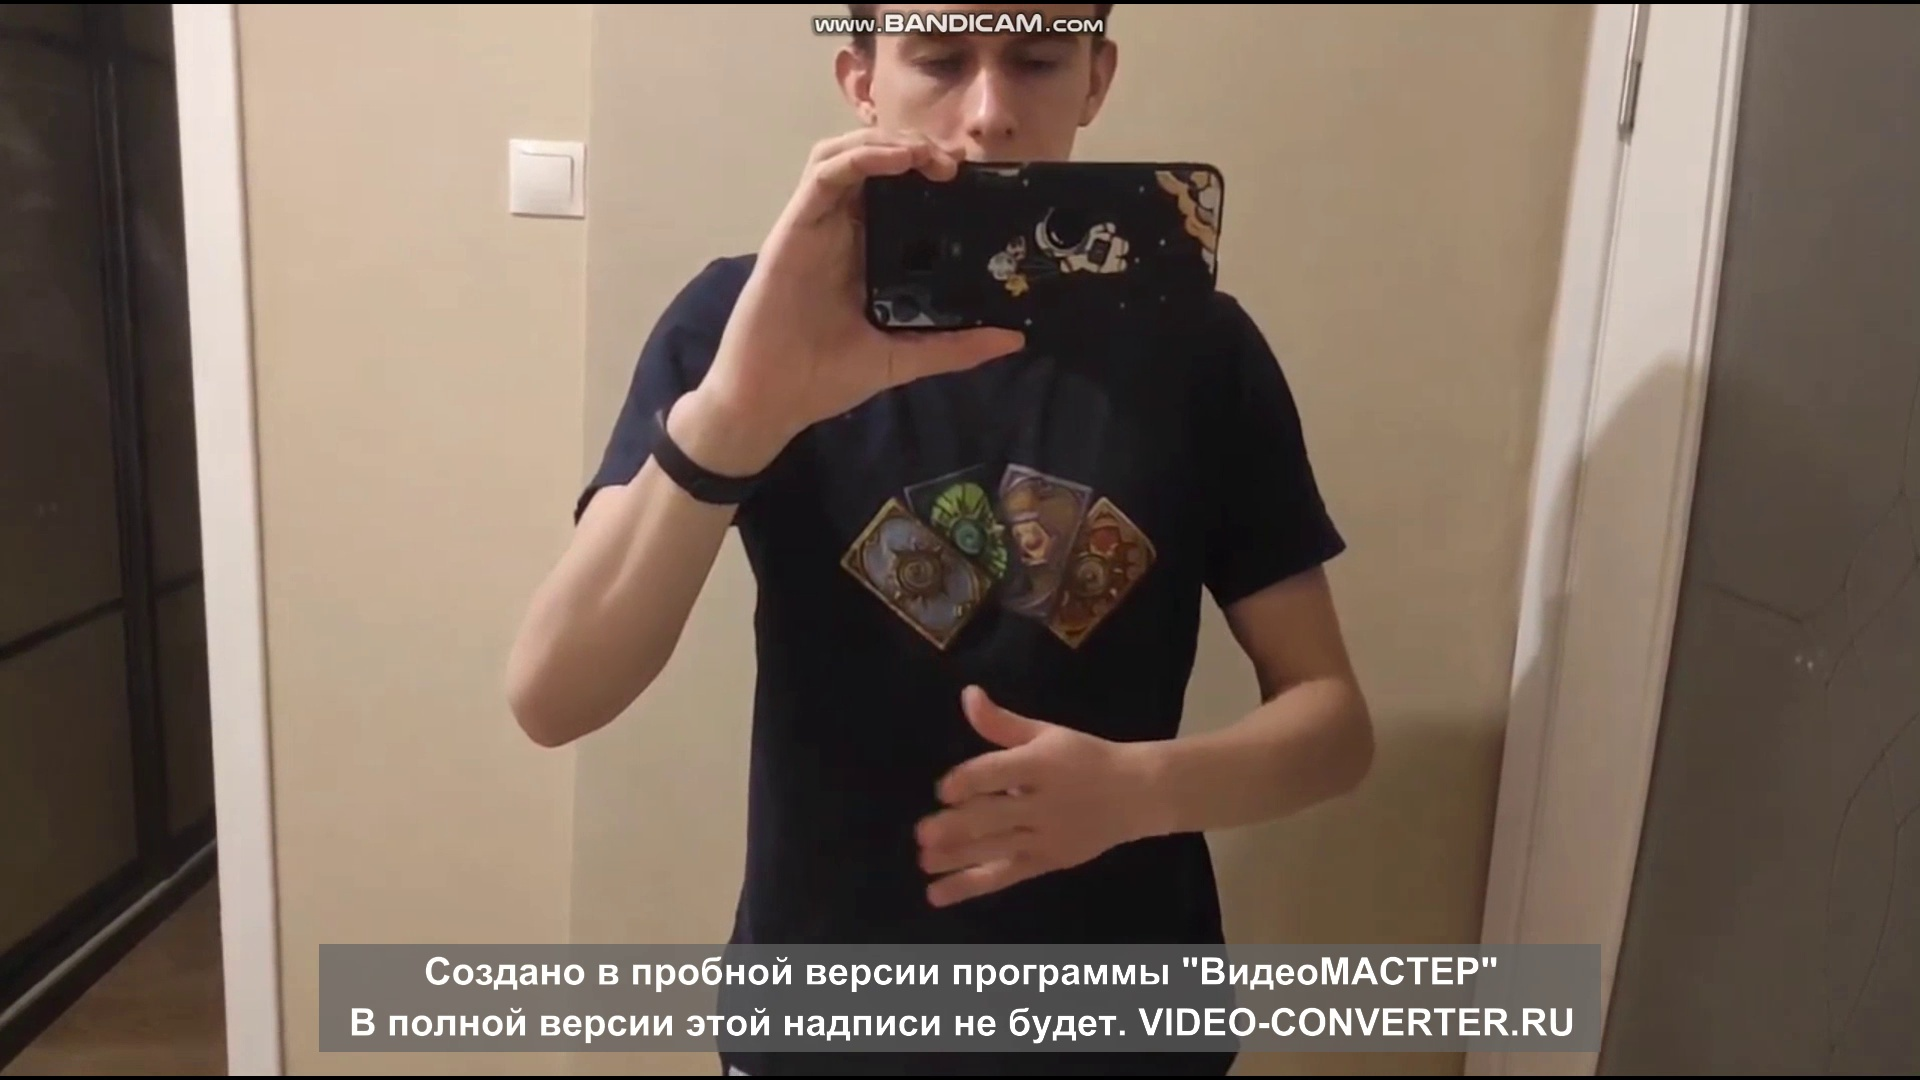Кисть: (910, 671, 1138, 903)
